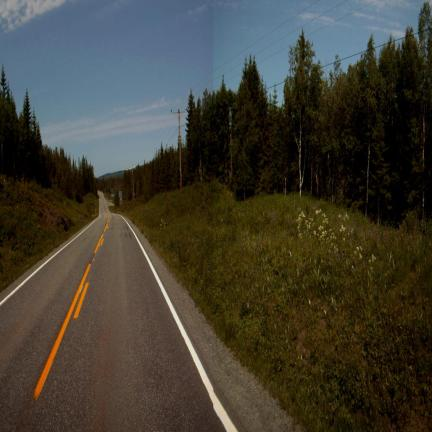Road: (0, 199, 233, 430)
